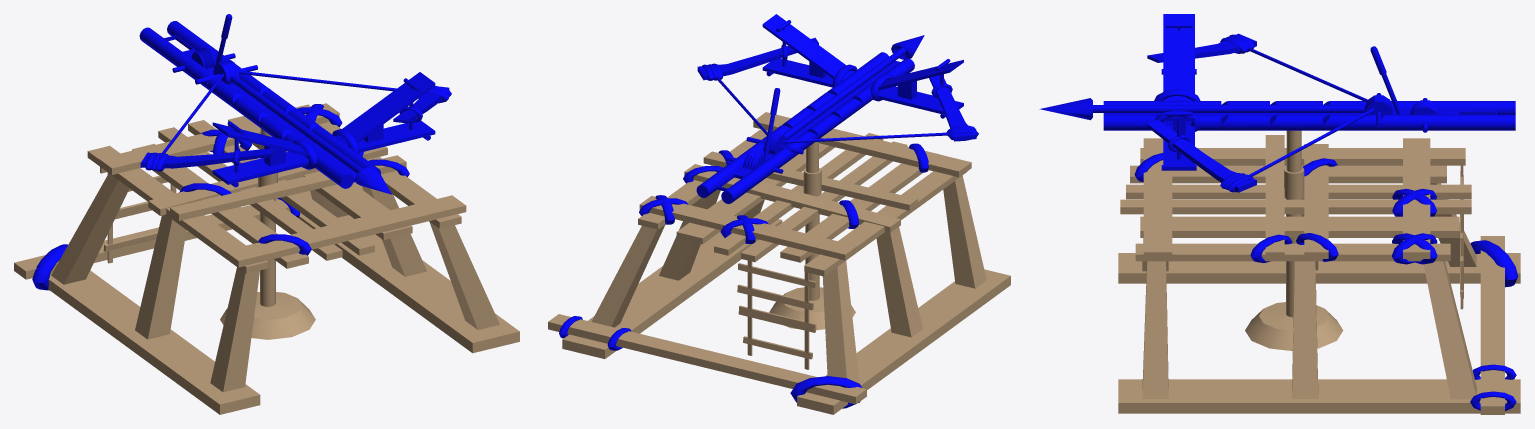
File: Ballista_slow-shifted.fbx
The picture shows the model from 3 angles, left to right: view 1: azimuth 30°, elevation 25°; view 2: azimuth 150°, elevation 25°; view 3: azimuth 270°, elevation 25°; orthographic projection. The views are drawn at different scales.
Parts seen in each view (by area): view 1: Ballista_Slow; view 2: Ballista_Slow; view 3: Ballista_Slow.
Boxes of the visible parts, box(x1,y1,x2,y2) form: Ballista_Slow: box(14, 14, 519, 414); Ballista_Slow: box(548, 14, 1010, 414); Ballista_Slow: box(1039, 14, 1520, 414).
Bounding box in the file's own units: 76 × 60.19 × 89.84.
